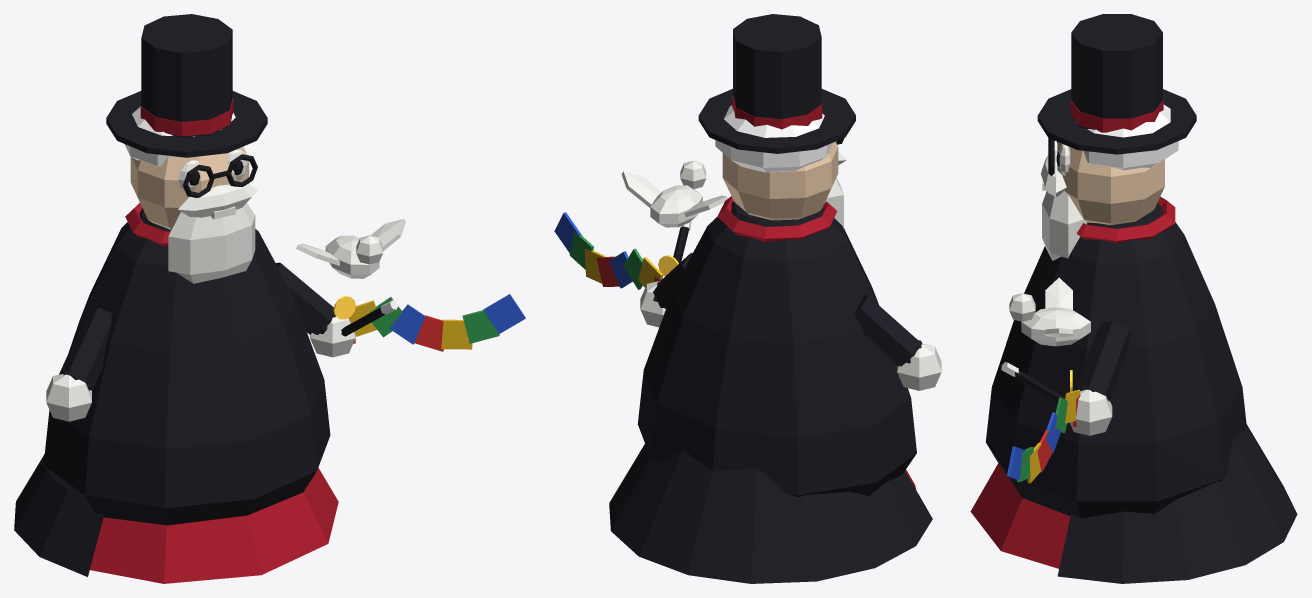
The model's file is npc_mago.glb.
The picture shows the model from 3 angles, left to right: view 1: azimuth 30°, elevation 25°; view 2: azimuth 150°, elevation 25°; view 3: azimuth 270°, elevation 25°; orthographic projection. The views are drawn at different scales.
Visible parts, largest first — view 1: body_magician_cape, body_magician_lining, hat_magician_cape, beard_beard_white, hanky, arms_magician_cape, head_skin_crema, dove_beard_white, gloves_beard_white, hat_magician_lining, glasses_black, hair_hair; view 2: body_magician_cape, hat_magician_cape, head_skin_crema, dove_beard_white, hanky, arms_magician_cape, hair_hair, gloves_beard_white, body_magician_lining, hat_magician_lining, beard_beard_white; view 3: body_magician_cape, hat_magician_cape, body_magician_lining, head_skin_crema, dove_beard_white, beard_beard_white, arms_magician_cape, hanky, hair_hair, gloves_beard_white, hat_magician_lining, wand_black.
Part boxes in pixels (bbox=[...]): body_magician_cape: bbox=[14, 208, 330, 576]; body_magician_lining: bbox=[90, 203, 338, 583]; hat_magician_cape: bbox=[106, 14, 267, 157]; beard_beard_white: bbox=[168, 184, 257, 283]; hanky: bbox=[348, 294, 525, 351]; arms_magician_cape: bbox=[59, 262, 335, 390]; head_skin_crema: bbox=[130, 146, 249, 229]; dove_beard_white: bbox=[296, 219, 405, 278]; gloves_beard_white: bbox=[46, 316, 355, 421]; hat_magician_lining: bbox=[140, 98, 233, 136]; glasses_black: bbox=[183, 154, 257, 197]; hair_hair: bbox=[124, 106, 235, 166]; body_magician_cape: bbox=[609, 201, 932, 583]; hat_magician_cape: bbox=[698, 14, 855, 153]; head_skin_crema: bbox=[722, 141, 838, 220]; dove_beard_white: bbox=[621, 161, 727, 227]; hanky: bbox=[554, 212, 663, 289]; arms_magician_cape: bbox=[653, 252, 922, 366]; hair_hair: bbox=[715, 105, 832, 172]; gloves_beard_white: bbox=[640, 280, 941, 390]; body_magician_lining: bbox=[717, 196, 916, 489]; hat_magician_lining: bbox=[732, 96, 822, 129]; beard_beard_white: bbox=[825, 151, 846, 228]; body_magician_cape: bbox=[986, 203, 1297, 583]; hat_magician_cape: bbox=[1037, 14, 1196, 154]; body_magician_lining: bbox=[970, 196, 1175, 568]; head_skin_crema: bbox=[1057, 142, 1164, 225]; dove_beard_white: bbox=[1009, 277, 1090, 346]; beard_beard_white: bbox=[1041, 150, 1087, 260]; arms_magician_cape: bbox=[1076, 321, 1131, 401]; hanky: bbox=[1007, 390, 1080, 483]; hair_hair: bbox=[1076, 104, 1178, 170]; gloves_beard_white: bbox=[1070, 389, 1112, 435]; hat_magician_lining: bbox=[1070, 100, 1163, 132]; wand_black: bbox=[1015, 369, 1065, 402].
Size of the model in its own units: 1.63 by 1.79 by 1.07.
